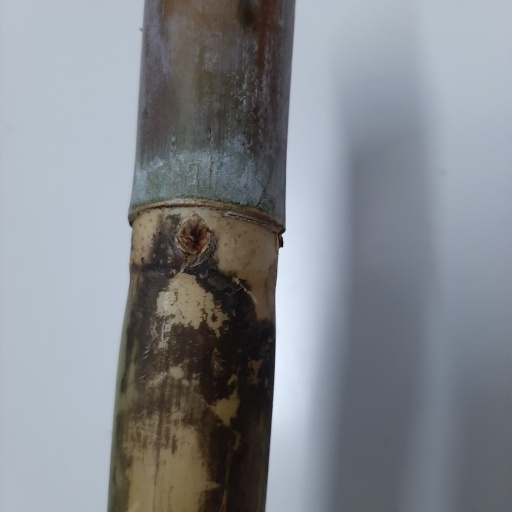Damage_Bud: (175, 211, 210, 255)
